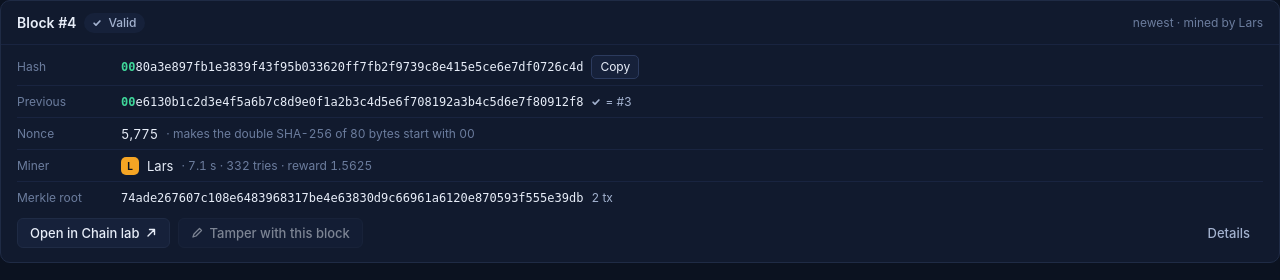
Test case: SelectedBlockCard › restarts the 1200 ms feedback period after another successful copy
Click the button with aria-label "Copy hash".
click(615, 67)  # box [591,55,639,79]
Wait 1000 ms
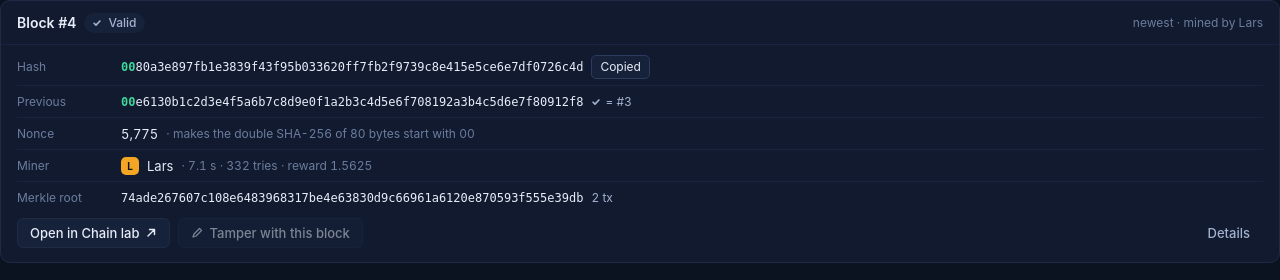
Click the button with aria-label "hash copied".
click(621, 67)  # box [591,55,650,79]
Wait 1200 ms
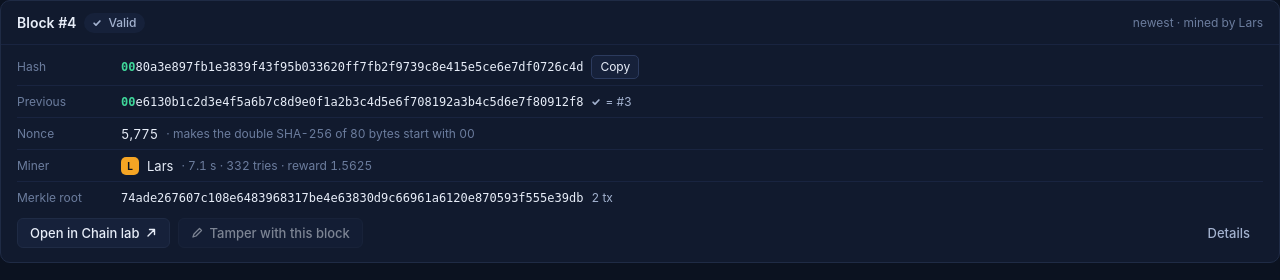
Result: the button with aria-label "Copy hash" is shown at [591,55,639,79]
